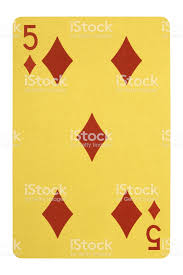five of diamonds: (12, 17, 169, 259)
